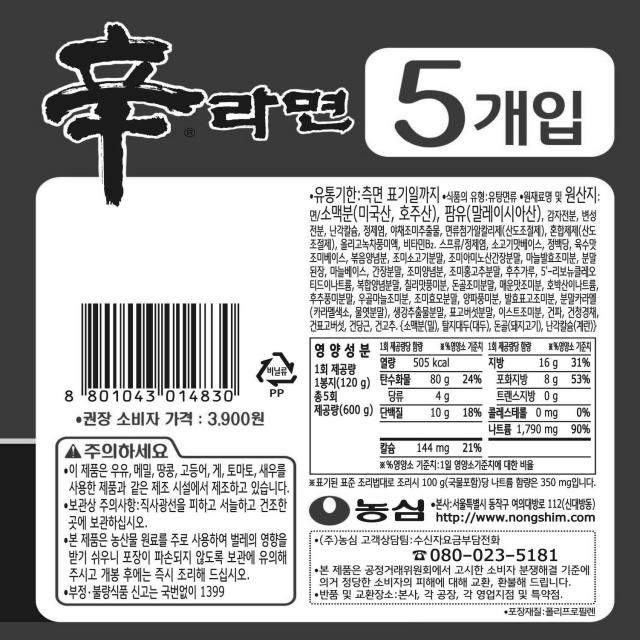Nutrition Label: (302, 330, 602, 478)
